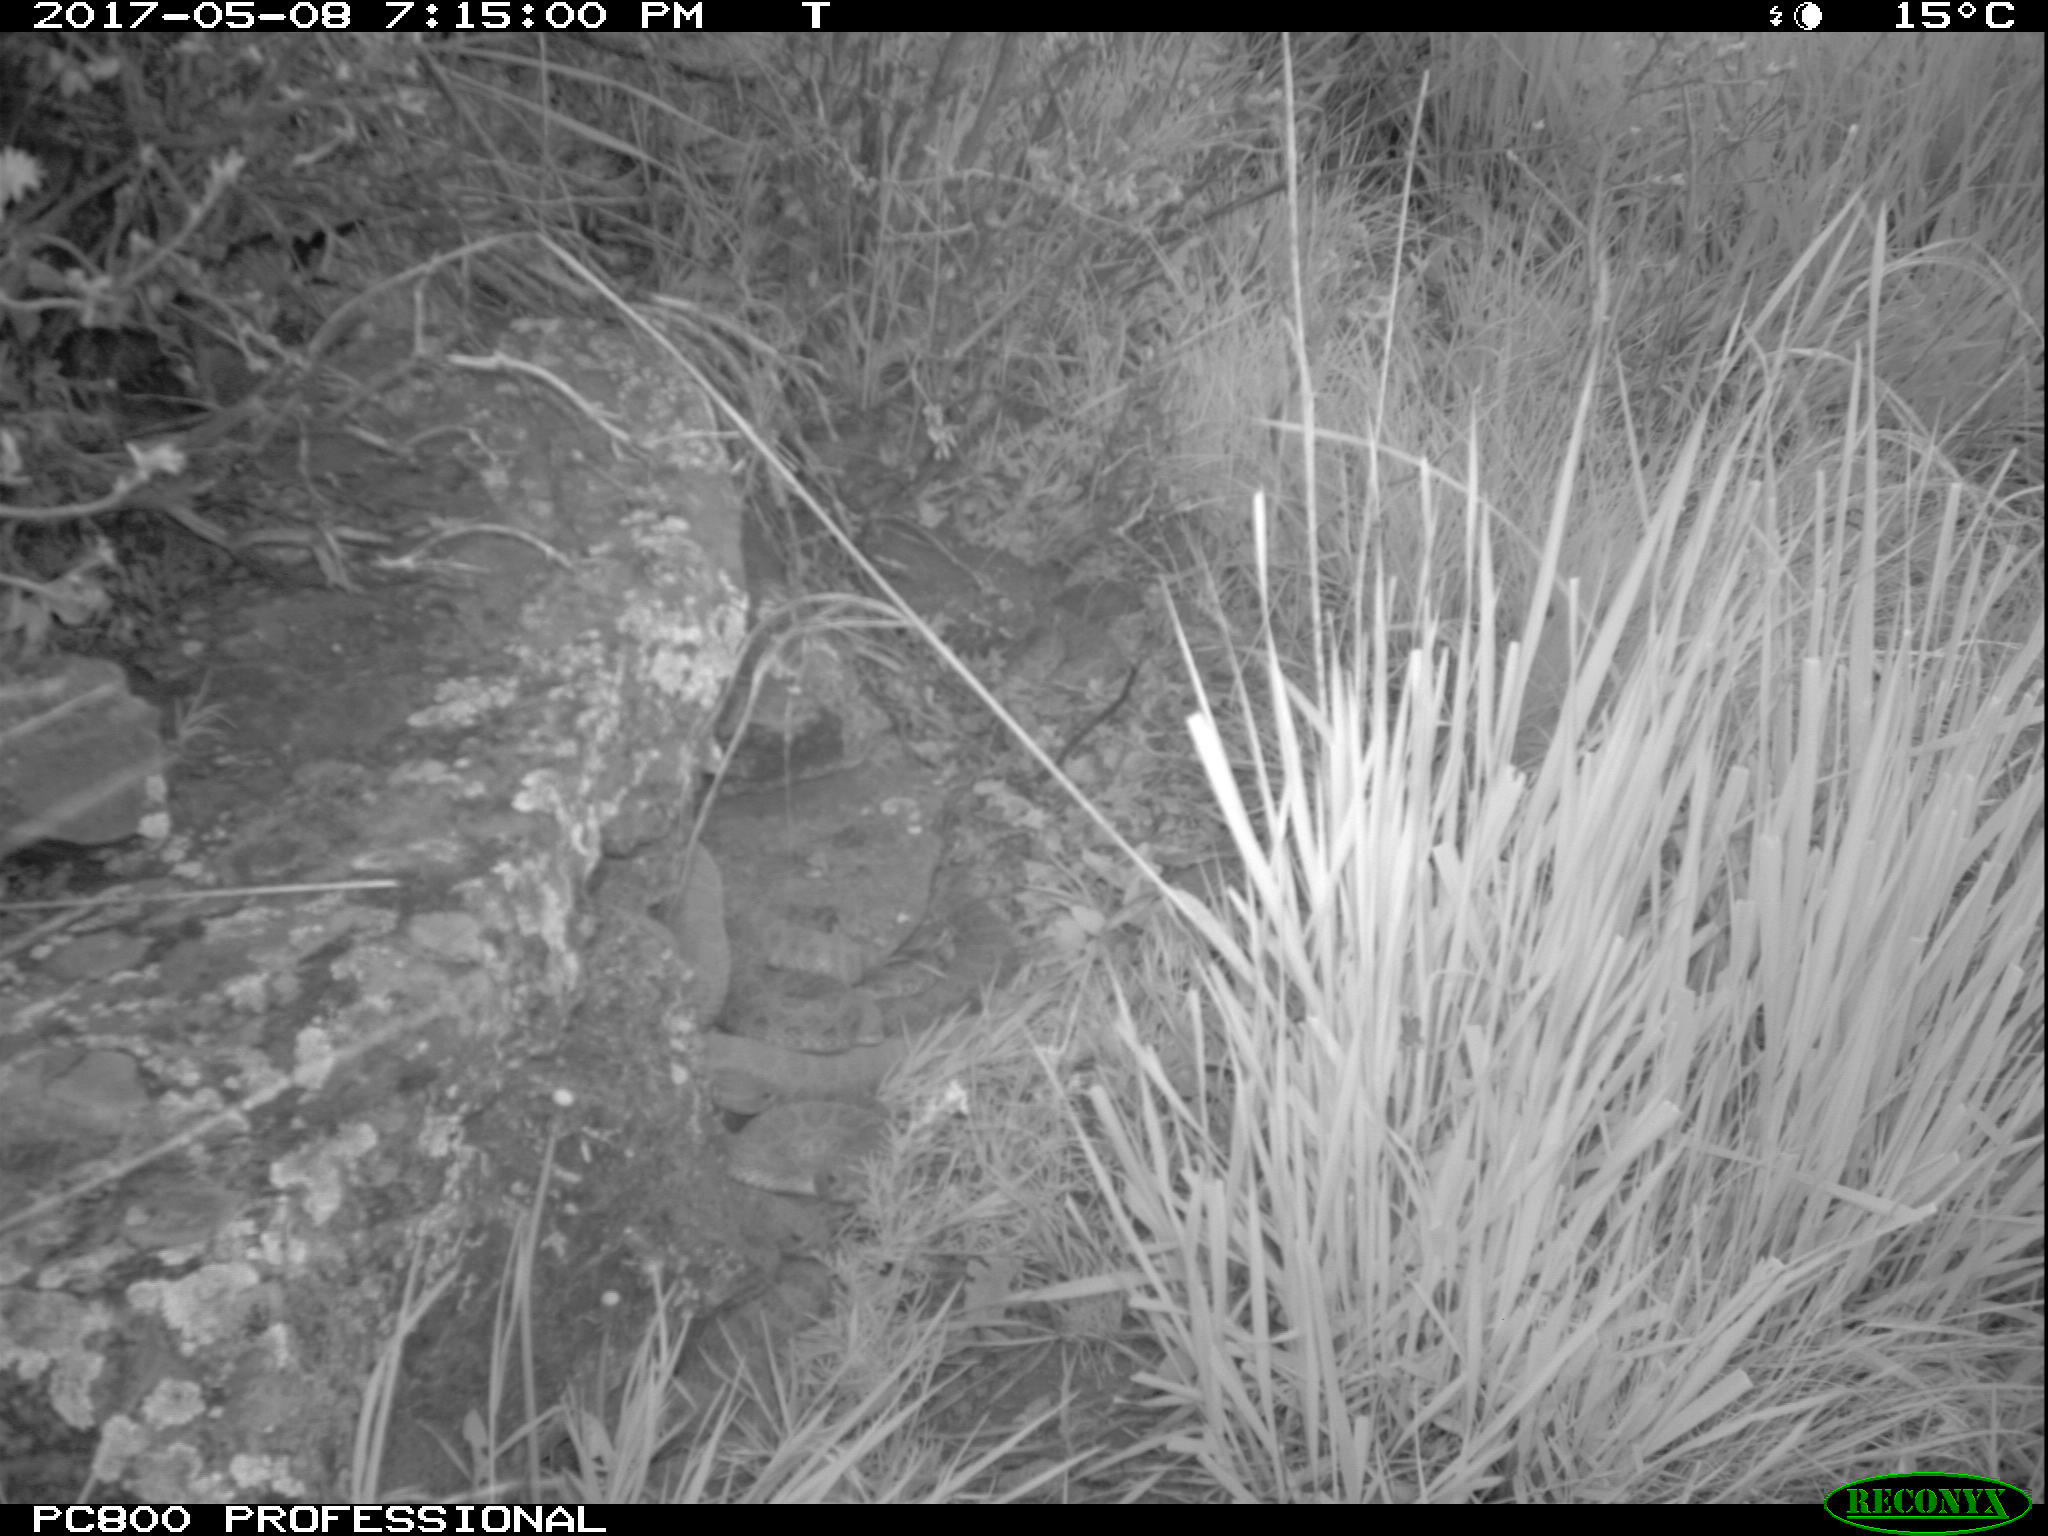snake: (697, 1041, 939, 1199), (660, 845, 755, 1029)
